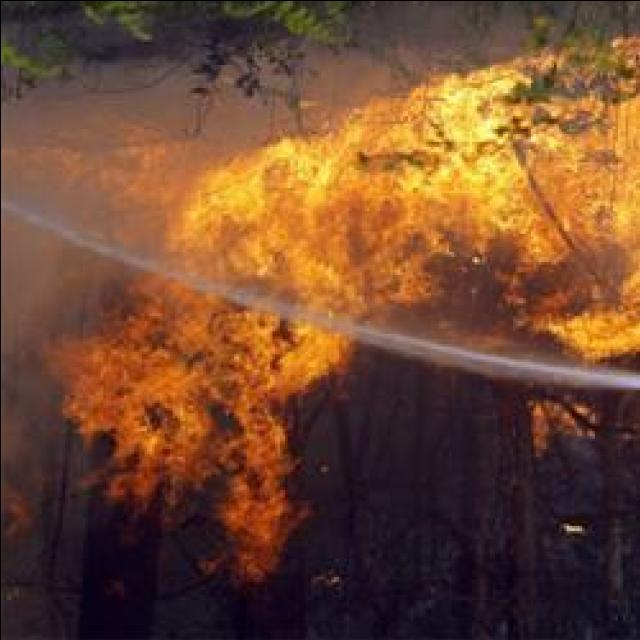fire: (217, 154, 528, 276), (94, 331, 295, 513), (550, 83, 640, 350)
